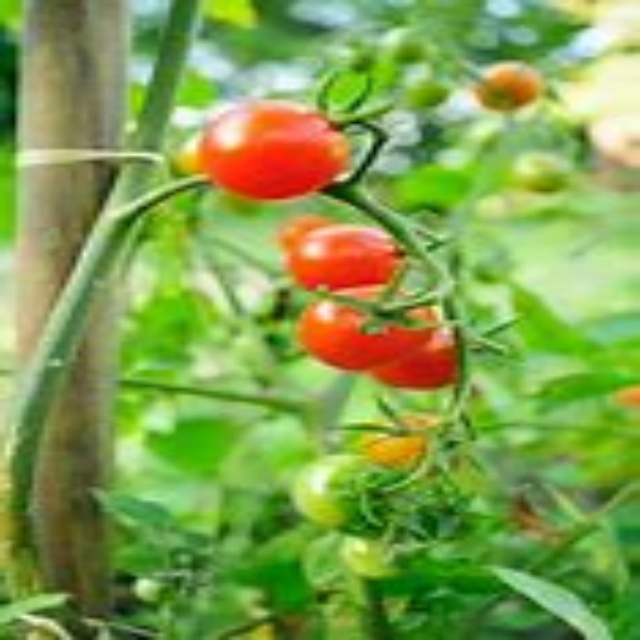tomato: (309, 284, 480, 389), (197, 103, 353, 203), (288, 216, 408, 296), (472, 68, 545, 113)
